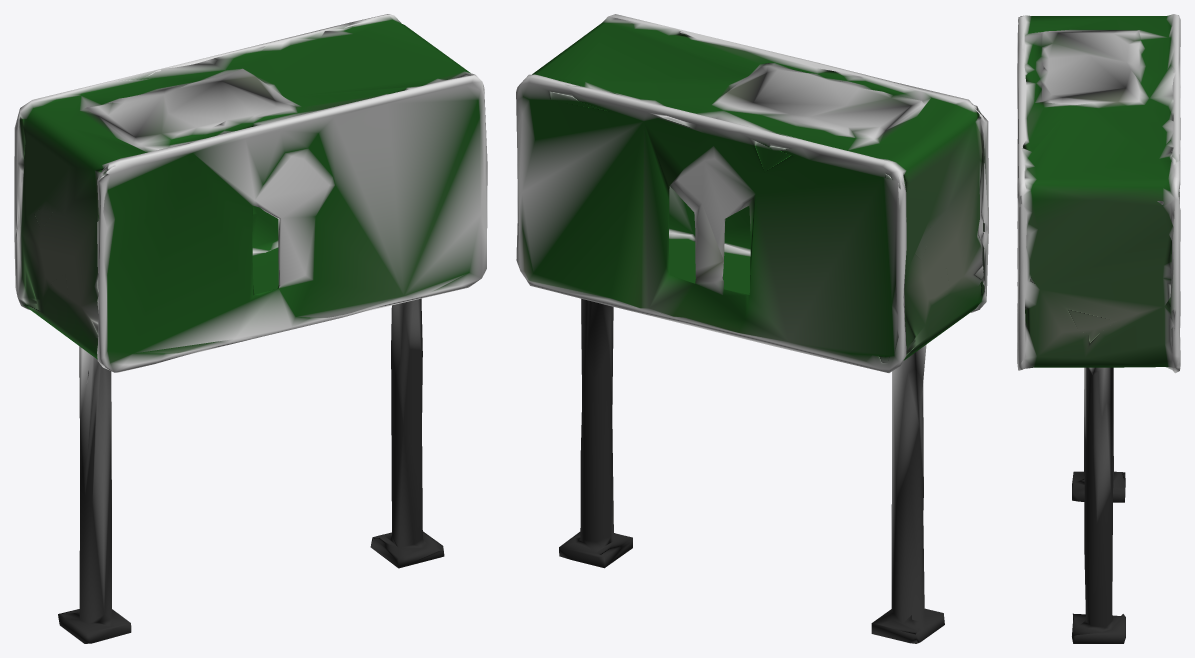
Rendered from gen3d-highway-sign-lod0.glb.
3 views of the same model, side by side, from view 1: azimuth 30°, elevation 25°; view 2: azimuth 150°, elevation 25°; view 3: azimuth 270°, elevation 25° (orthographic). The views are drawn at different scales.
Visible parts, largest first — view 1: part_0; view 2: part_0; view 3: part_0.
Part boxes in pixels (x1=…): part_0: x1=14, y1=14, x2=487, y2=643; part_0: x1=516, y1=14, x2=988, y2=643; part_0: x1=1017, y1=14, x2=1180, y2=643.
Size of the model in its own units: 0.8837 by 1.09 by 0.3453.
